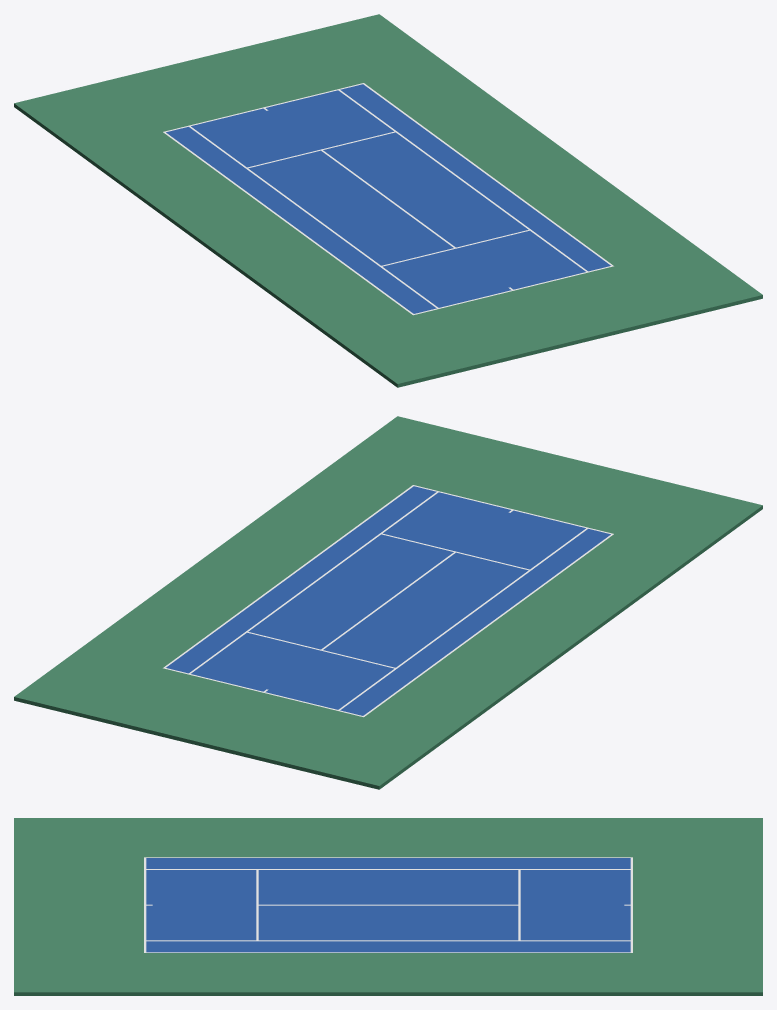
The model's file is CourtSurface.glb.
3 views of the same model, one above another, from view 1: azimuth 30°, elevation 25°; view 2: azimuth 150°, elevation 25°; view 3: azimuth 270°, elevation 25° (orthographic). The views are drawn at different scales.
Parts seen in each view (by area): view 1: CourtSurface; view 2: CourtSurface; view 3: CourtSurface.
Boxes of the visible parts, bbox=[...] form: CourtSurface: bbox=[14, 14, 762, 387]; CourtSurface: bbox=[14, 416, 762, 789]; CourtSurface: bbox=[14, 818, 762, 995].
Bounding box in the file's own units: 66 × 0.65 × 120.
Materials: 1 (1 with a texture image).
